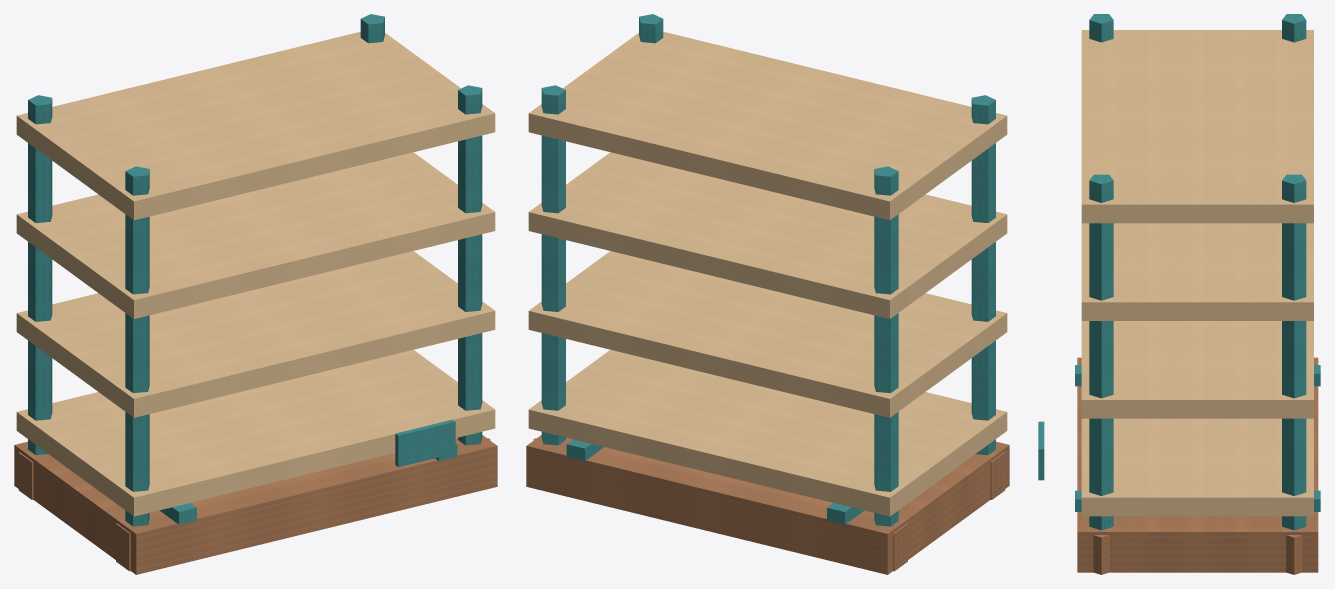
File: atlas100-s100-a06.lod1.glb
The picture shows the model from 3 angles, left to right: view 1: azimuth 30°, elevation 25°; view 2: azimuth 150°, elevation 25°; view 3: azimuth 270°, elevation 25°; orthographic projection.
Visible parts, largest first — view 1: atlas100-s100-a06:part-014, atlas100-s100-a06:part-012, atlas100-s100-a06:part-013, atlas100-s100-a06:part-011, atlas100-s100-a06:part-000, atlas100-s100-a06:part-005, atlas100-s100-a06:part-009, atlas100-s100-a06:part-003, atlas100-s100-a06:part-015, atlas100-s100-a06:part-007, atlas100-s100-a06:part-004; view 2: atlas100-s100-a06:part-014, atlas100-s100-a06:part-011, atlas100-s100-a06:part-012, atlas100-s100-a06:part-013, atlas100-s100-a06:part-000, atlas100-s100-a06:part-003, atlas100-s100-a06:part-007, atlas100-s100-a06:part-005, atlas100-s100-a06:part-009, atlas100-s100-a06:part-006; view 3: atlas100-s100-a06:part-014, atlas100-s100-a06:part-011, atlas100-s100-a06:part-012, atlas100-s100-a06:part-013, atlas100-s100-a06:part-000, atlas100-s100-a06:part-009, atlas100-s100-a06:part-007, atlas100-s100-a06:part-008, atlas100-s100-a06:part-010, atlas100-s100-a06:part-005, atlas100-s100-a06:part-003, atlas100-s100-a06:part-015.
Part boxes in pixels (x1=…): atlas100-s100-a06:part-014: x1=16, y1=31, x2=495, y2=220; atlas100-s100-a06:part-012: x1=16, y1=251, x2=495, y2=417; atlas100-s100-a06:part-013: x1=16, y1=152, x2=495, y2=318; atlas100-s100-a06:part-011: x1=16, y1=349, x2=495, y2=516; atlas100-s100-a06:part-000: x1=14, y1=435, x2=497, y2=574; atlas100-s100-a06:part-005: x1=125, y1=166, x2=149, y2=526; atlas100-s100-a06:part-009: x1=458, y1=85, x2=482, y2=445; atlas100-s100-a06:part-003: x1=28, y1=95, x2=52, y2=455; atlas100-s100-a06:part-015: x1=395, y1=419, x2=455, y2=467; atlas100-s100-a06:part-007: x1=360, y1=14, x2=384, y2=43; atlas100-s100-a06:part-004: x1=18, y1=452, x2=33, y2=499; atlas100-s100-a06:part-014: x1=528, y1=31, x2=1007, y2=220; atlas100-s100-a06:part-011: x1=528, y1=349, x2=1007, y2=516; atlas100-s100-a06:part-012: x1=528, y1=251, x2=1007, y2=417; atlas100-s100-a06:part-013: x1=528, y1=152, x2=1007, y2=318; atlas100-s100-a06:part-000: x1=526, y1=435, x2=1009, y2=574; atlas100-s100-a06:part-003: x1=874, y1=166, x2=898, y2=526; atlas100-s100-a06:part-007: x1=541, y1=85, x2=565, y2=445; atlas100-s100-a06:part-005: x1=971, y1=95, x2=995, y2=455; atlas100-s100-a06:part-009: x1=639, y1=14, x2=663, y2=43; atlas100-s100-a06:part-006: x1=990, y1=452, x2=1005, y2=499; atlas100-s100-a06:part-014: x1=1081, y1=30, x2=1313, y2=223; atlas100-s100-a06:part-011: x1=1081, y1=418, x2=1313, y2=516; atlas100-s100-a06:part-012: x1=1081, y1=321, x2=1313, y2=418; atlas100-s100-a06:part-013: x1=1081, y1=223, x2=1313, y2=320; atlas100-s100-a06:part-000: x1=1077, y1=357, x2=1318, y2=572; atlas100-s100-a06:part-009: x1=1089, y1=174, x2=1113, y2=530; atlas100-s100-a06:part-007: x1=1282, y1=174, x2=1306, y2=530; atlas100-s100-a06:part-008: x1=1286, y1=535, x2=1302, y2=574; atlas100-s100-a06:part-010: x1=1093, y1=535, x2=1109, y2=574; atlas100-s100-a06:part-005: x1=1089, y1=14, x2=1113, y2=42; atlas100-s100-a06:part-003: x1=1282, y1=14, x2=1306, y2=42; atlas100-s100-a06:part-015: x1=1038, y1=421, x2=1044, y2=480.
Bounding box in the file's own units: 2.44 × 2.48 × 1.64.
3 materials, 3 textured.
